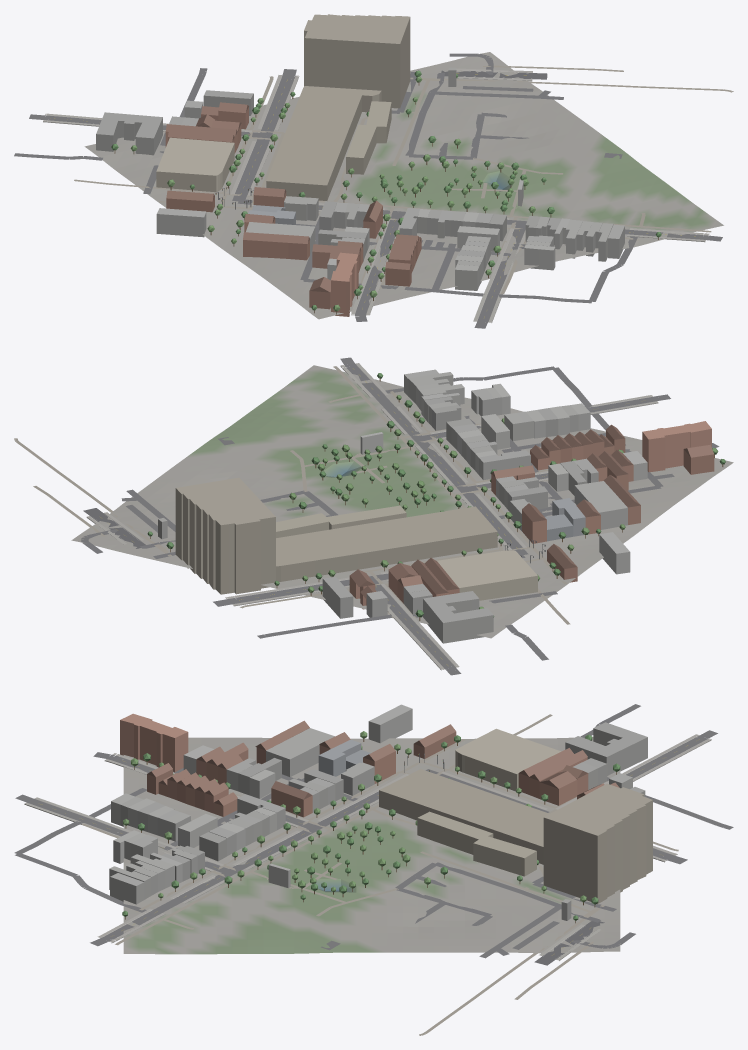
Rendered from tile_-8_4.glb.
3 views of the same model, one above another, from view 1: azimuth 30°, elevation 25°; view 2: azimuth 150°, elevation 25°; view 3: azimuth 270°, elevation 25° (orthographic). The views are drawn at different scales.
Visible parts, largest first — view 1: buildings, terrain, roads, props, paths, sidewalks; view 2: buildings, terrain, roads, props, paths, sidewalks; view 3: buildings, terrain, roads, paths, props, sidewalks.
Part boxes in pixels (x1,y1,x2,y2): buildings: [96, 14, 624, 316]; terrain: [84, 52, 723, 319]; roads: [14, 53, 722, 328]; props: [111, 70, 661, 314]; paths: [74, 65, 733, 293]; sidewalks: [43, 68, 709, 322]; buildings: [158, 369, 714, 643]; terrain: [71, 365, 733, 638]; roads: [81, 357, 719, 675]; props: [147, 373, 725, 620]; paths: [14, 366, 570, 624]; sidewalks: [86, 363, 658, 670]; buildings: [109, 704, 652, 920]; terrain: [123, 737, 620, 954]; roads: [14, 704, 733, 965]; paths: [81, 714, 678, 1035]; props: [122, 731, 620, 923]; sidewalks: [24, 734, 711, 960].
Bounding box in the file's own units: 390 × 43.37 × 371.
